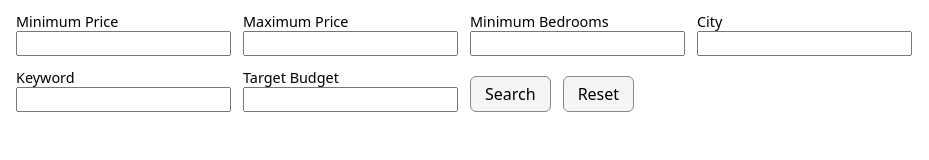
Test: SearchForm › clears every field on Reset
Type "300000" into the number field labelled "Minimum Price" at (124, 44), box top-left (16, 31), bottom-right (231, 56)
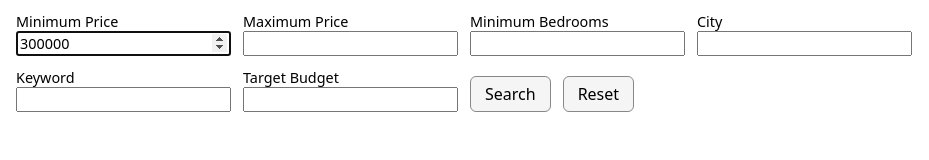
Type "Fairfax" into the field labelled "City" at (804, 44), box top-left (697, 31), bottom-right (912, 56)
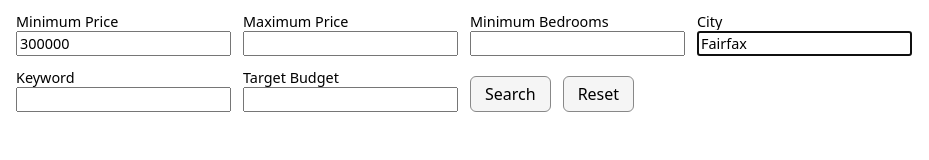
Click the button "Reset" at (598, 94), box top-left (563, 76), bottom-right (634, 112)
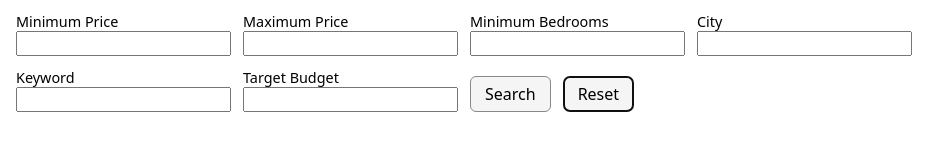
Check: the number field labelled "Minimum Price" is not empty, box top-left (16, 31), bottom-right (231, 56)
Check: the field labelled "City" is empty, box top-left (697, 31), bottom-right (912, 56)
